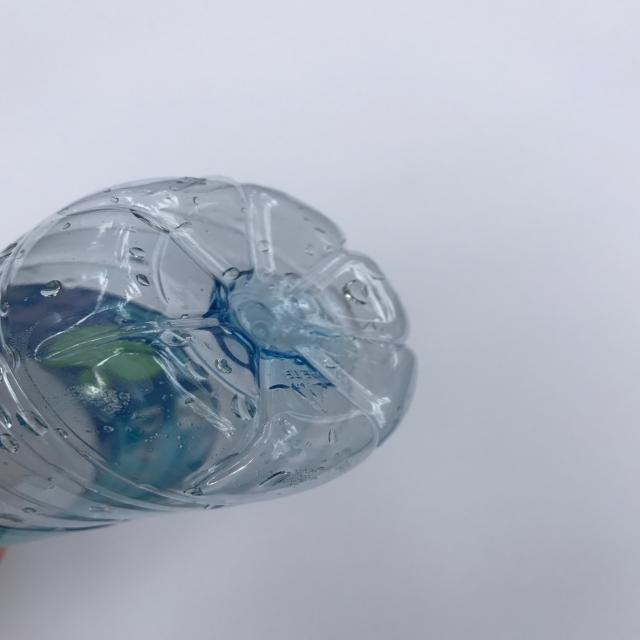plastic: (0, 173, 418, 548)
